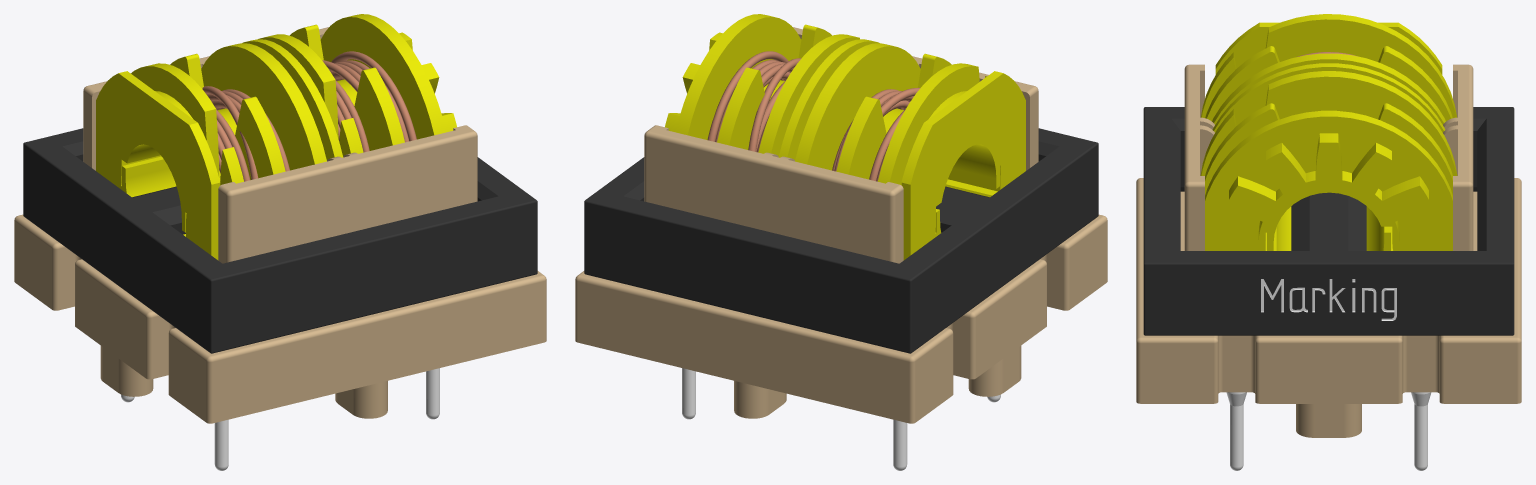
File: WE_FC Common Mode POwer Line Choke.gltf
3 renders of one model, left to right at view 1: azimuth 30°, elevation 25°; view 2: azimuth 150°, elevation 25°; view 3: azimuth 270°, elevation 25°, orthographic.
Parts seen in each view (by area): view 1: GehÃ¤use, Ferrit, WickelgehÃ¤use_0,5, WickelgehÃ¤use004, WickelgehÃ¤use003, WickelgehÃ¤use001, WickelgehÃ¤use006, Beinchen002, WickelgehÃ¤use, Beinchen, WickelgehÃ¤use009, WickelgehÃ¤use002; view 2: GehÃ¤use, Ferrit, WickelgehÃ¤use_0,5, WickelgehÃ¤use003, WickelgehÃ¤use004, Beinchen003, Beinchen001, WickelgehÃ¤use; view 3: Ferrit, WickelgehÃ¤use_0,5, GehÃ¤use, WickelgehÃ¤use004, Beinchen, Beinchen001.
Part boxes in pixels (x1,y1,x2,y2): GehÃ¤use: [14, 27, 546, 423]; Ferrit: [23, 128, 537, 353]; WickelgehÃ¤use_0,5: [96, 14, 456, 241]; WickelgehÃ¤use004: [96, 156, 218, 260]; WickelgehÃ¤use003: [322, 51, 416, 141]; WickelgehÃ¤use001: [202, 86, 258, 179]; WickelgehÃ¤use006: [335, 80, 369, 152]; Beinchen002: [214, 419, 228, 470]; WickelgehÃ¤use: [216, 109, 250, 181]; Beinchen: [426, 368, 439, 419]; WickelgehÃ¤use009: [207, 89, 289, 171]; WickelgehÃ¤use002: [329, 60, 408, 142]; GehÃ¤use: [575, 27, 1107, 423]; Ferrit: [584, 128, 1098, 353]; WickelgehÃ¤use_0,5: [665, 14, 1025, 241]; WickelgehÃ¤use003: [707, 51, 801, 151]; WickelgehÃ¤use004: [903, 157, 1025, 260]; Beinchen003: [893, 419, 907, 470]; Beinchen001: [682, 368, 695, 419]; WickelgehÃ¤use: [869, 109, 905, 181]; Ferrit: [1143, 107, 1514, 335]; WickelgehÃ¤use_0,5: [1200, 14, 1457, 250]; GehÃ¤use: [1136, 64, 1521, 437]; WickelgehÃ¤use004: [1205, 206, 1452, 250]; Beinchen: [1226, 392, 1246, 470]; Beinchen001: [1411, 392, 1431, 470].
Size of the model in its own units: 0.0209 by 0.0212 by 0.0209.
